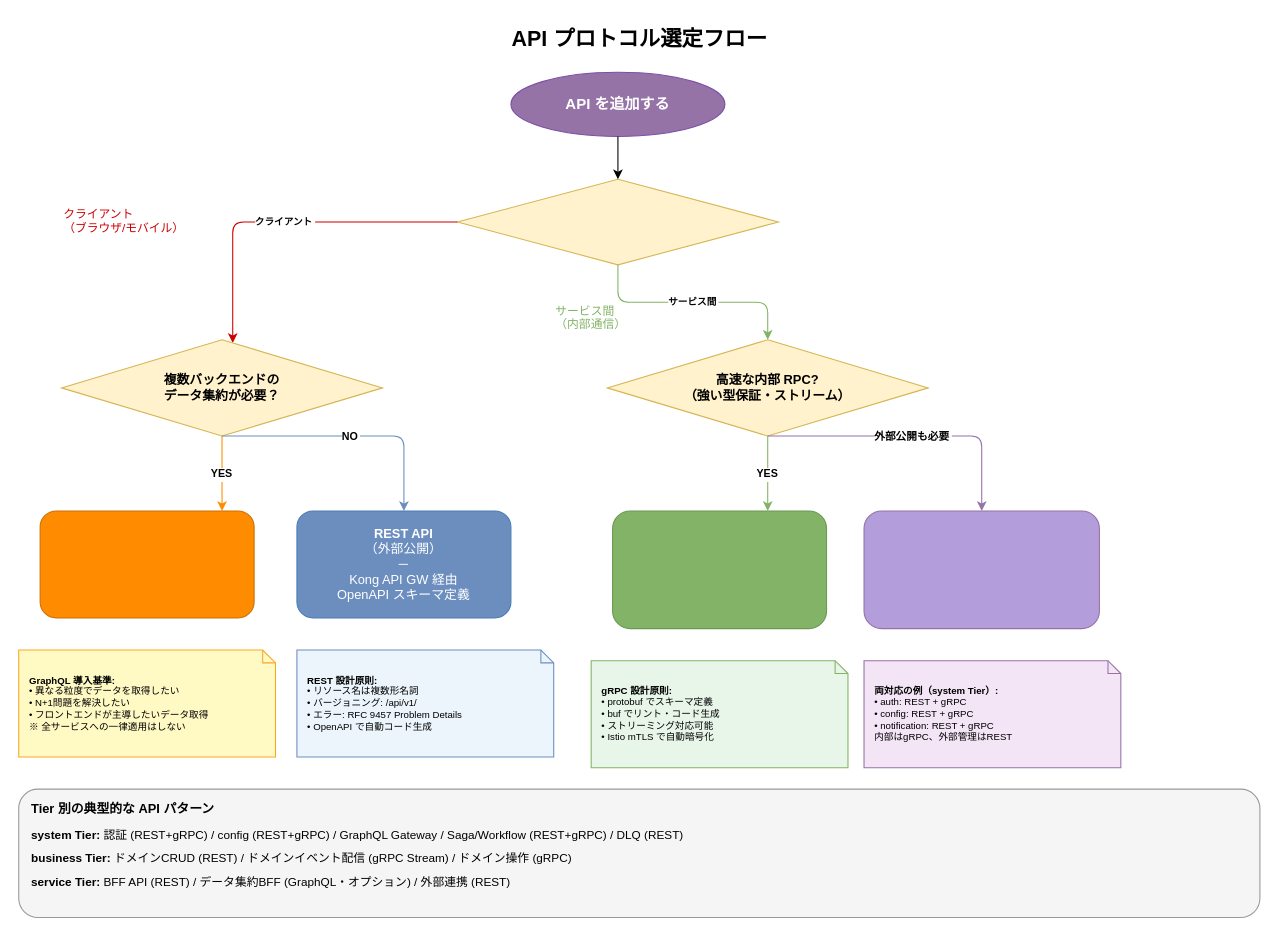
Image size: 1279x936. Some labels were removed from this diagram. Here are the shapes that lost their labels. From the top down, the centre of each, then its label:
At point 617,221: "呼び出し元は？".
At point 146,564: "GraphQL （オプション採用） ─ gqlgen（Go） async-graphql（Rust）".
At point 719,569: "gRPC （標準・推奨） ─ protobuf 定義 buf によるリント Istio mTLS で保護".
At point 981,569: "gRPC + REST（両方） ─ 内部: gRPC（高速） 外部: REST（互換性） system Tier の共通APIはこのパターン".
